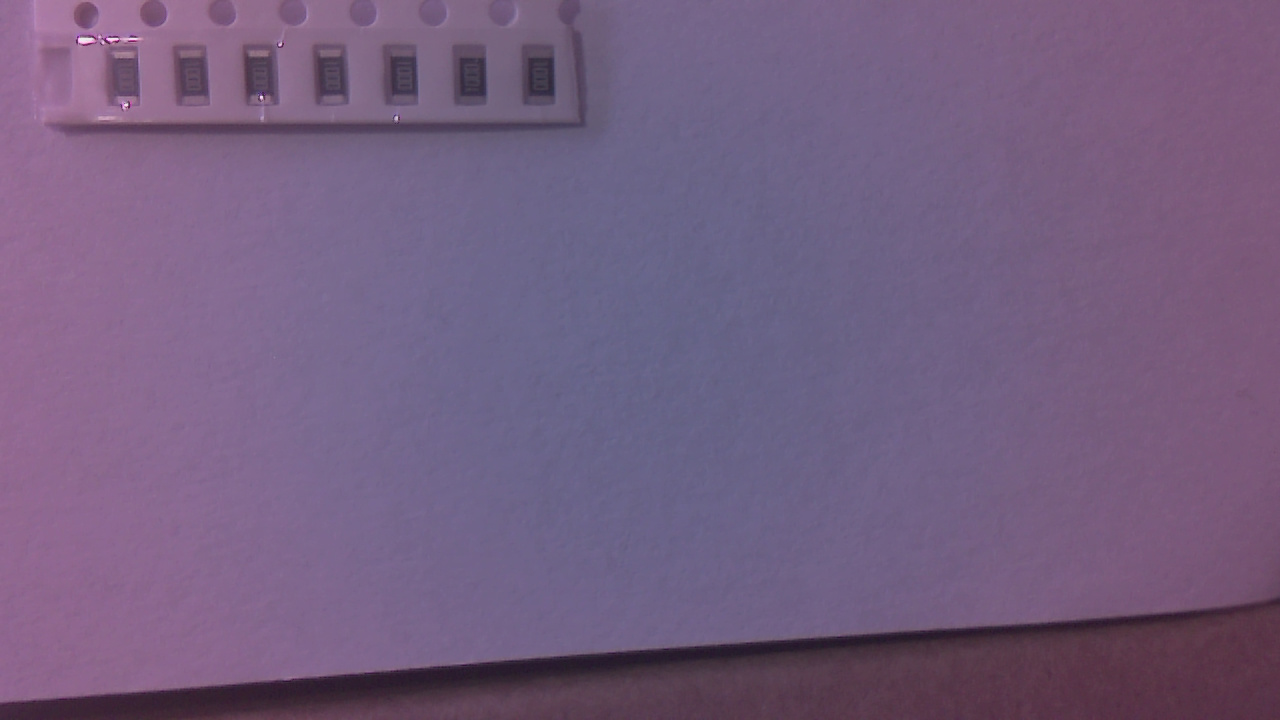Resistor: (321, 51, 356, 114), (179, 50, 215, 110), (248, 49, 284, 108), (391, 47, 425, 109), (113, 51, 147, 112), (457, 52, 493, 108), (527, 52, 561, 109)
